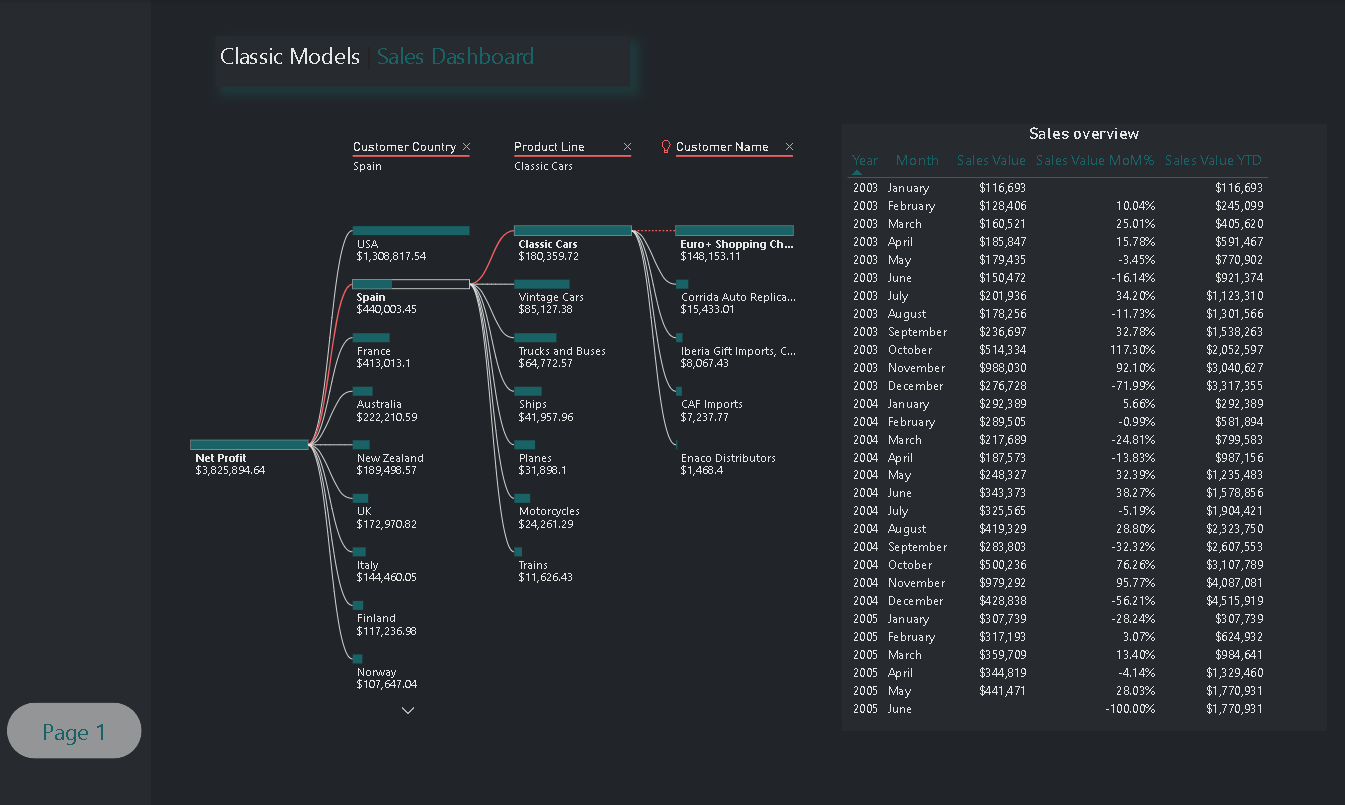

The dashboard page shown, as its layout file describes it:
{"tool":"powerbi","page":{"name":"SALES OVERVIEW PAGE-2","canvas":[1500,900],"ordinal":1},"visuals":[{"type":"shape","box":[0,0,170,900.3],"z":0},{"type":"decompositionTreeVisual","fields":{"Analyze":["classicmodels sales_data_for_power_bi.Net Profit"],"ExplainBy":["classicmodels sales_data_for_power_bi.customer_country","classicmodels sales_data_for_power_bi.productLine","classicmodels sales_data_for_power_bi.customerName"]},"box":[185.1,137.8,798.7,693],"z":1},{"type":"textbox","box":[242.1,40.4,462,55.7],"z":2},{"type":"tableEx","title":"Sales overview","fields":{"Values":["classicmodels sales_data_for_power_bi.orderdate.Variation.Date Hierarchy.Year","classicmodels sales_data_for_power_bi.orderdate.Variation.Date Hierarchy.Month","Sum(classicmodels sales_data_for_power_bi.sales_value)","classicmodels sales_data_for_power_bi.sales_value MoM%","classicmodels sales_data_for_power_bi.sales_value YTD"]},"box":[939.2,137.8,539.9,676.3],"z":3},{"type":"actionButton","box":[9.7,782,150.3,62.6],"z":4}]}

Visuals, with their boxes on the page's 1500x900 design canvas (x1, y1, x2, y2). These are canvas units, not pixel positions in the 1345x805 screenshot, which may show the page scaled, cropped or inside an application window:
shape: Rect(0, 0, 170, 900)
decompositionTreeVisual - classicmodels sales_data_for_power_bi.Net Profit x classicmodels sales_data_for_power_bi.customer_country: Rect(185, 138, 984, 831)
textbox: Rect(242, 40, 704, 96)
"Sales overview" tableEx: Rect(939, 138, 1479, 814)
actionButton: Rect(10, 782, 160, 845)
